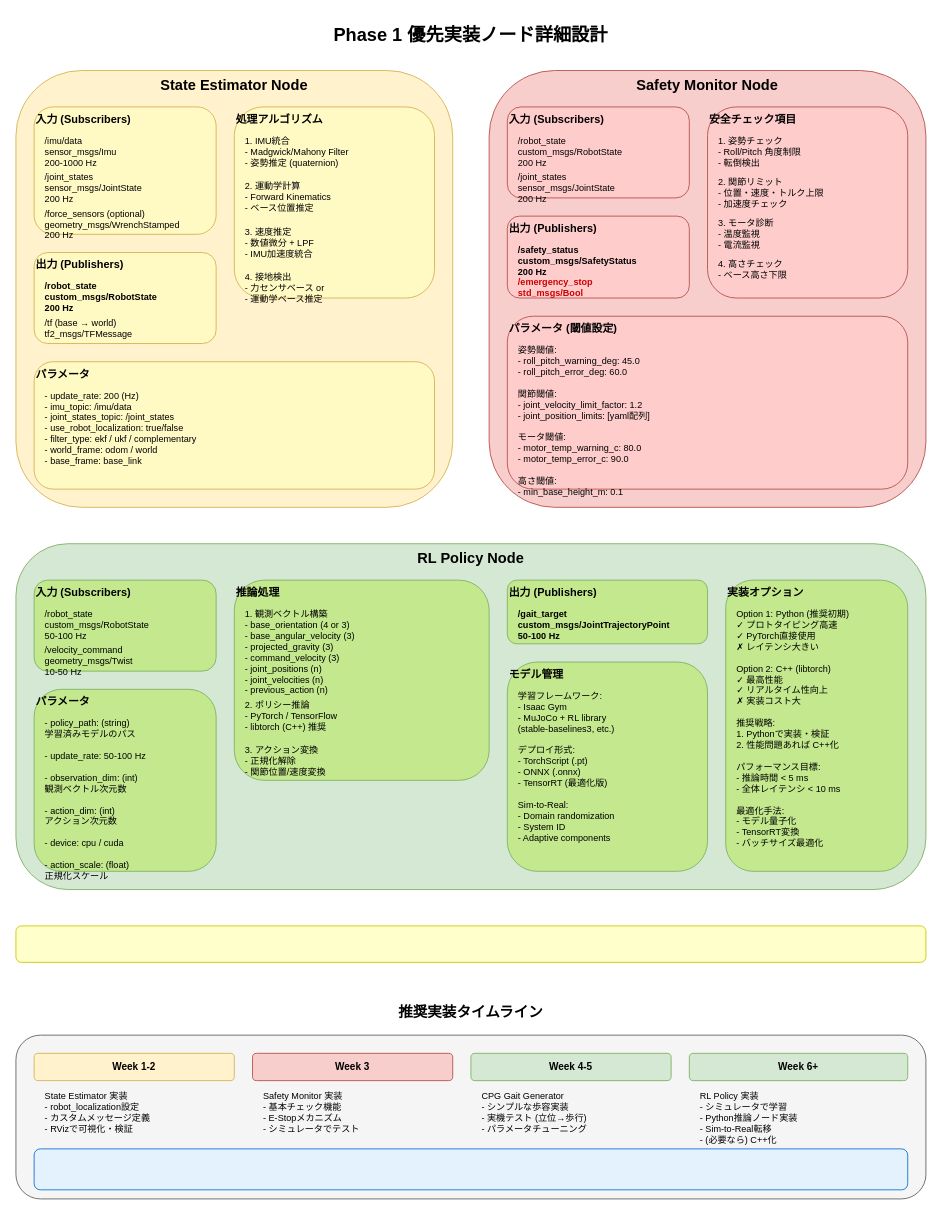
The diagram is 942 pixels wide and 1225 high, and some of its shapes have lost their labels. The centre of each missing label's shape, as x and y in pixels:
並行作業: - URDFモデル整備 - Gazebo/Isaac Gymシミュレータ構築 - ロギング・診断機能実装 - ドキュメント整備: (x=470, y=1169)
実装優先順位: State Estimator → Safety Monitor → Gait Generator (CPG) → RL Policy: (x=470, y=943)
